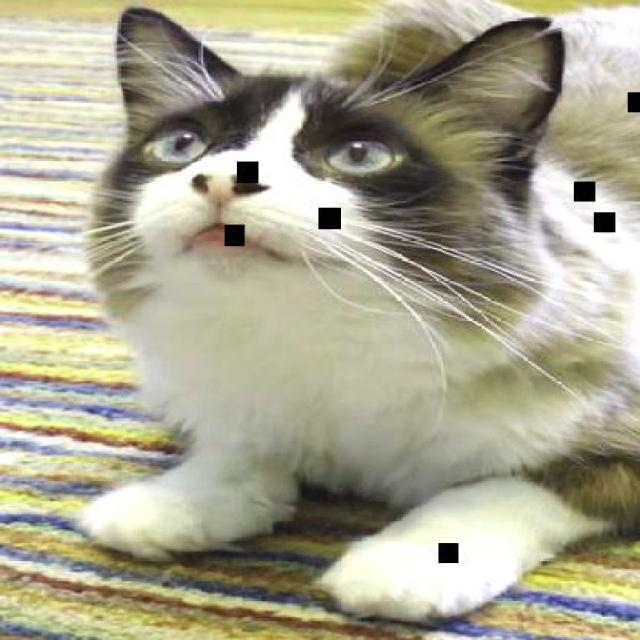cat: (73, 0, 638, 623)
